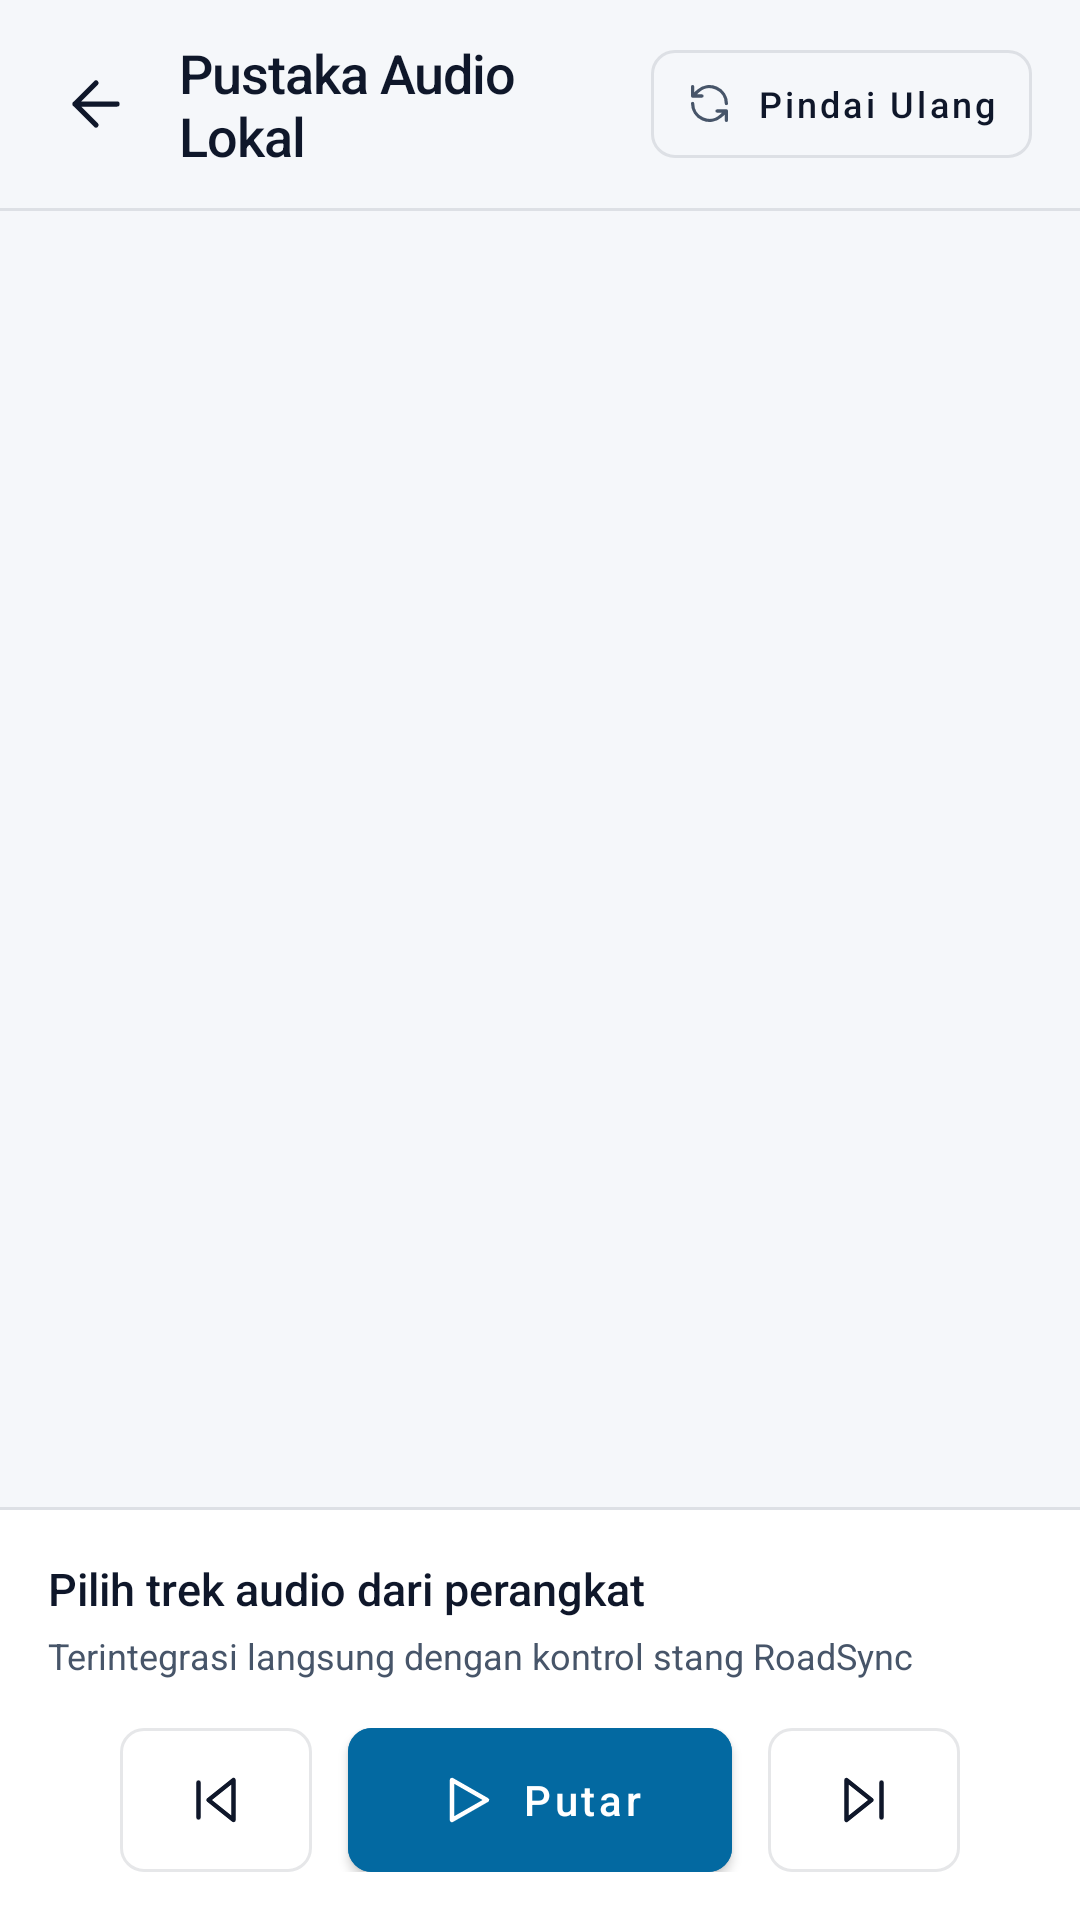

Where icons sit on this 1080 x 1920 app screen, as (x1, y1, x2, y2):
Kembali: (72, 80, 120, 128)
